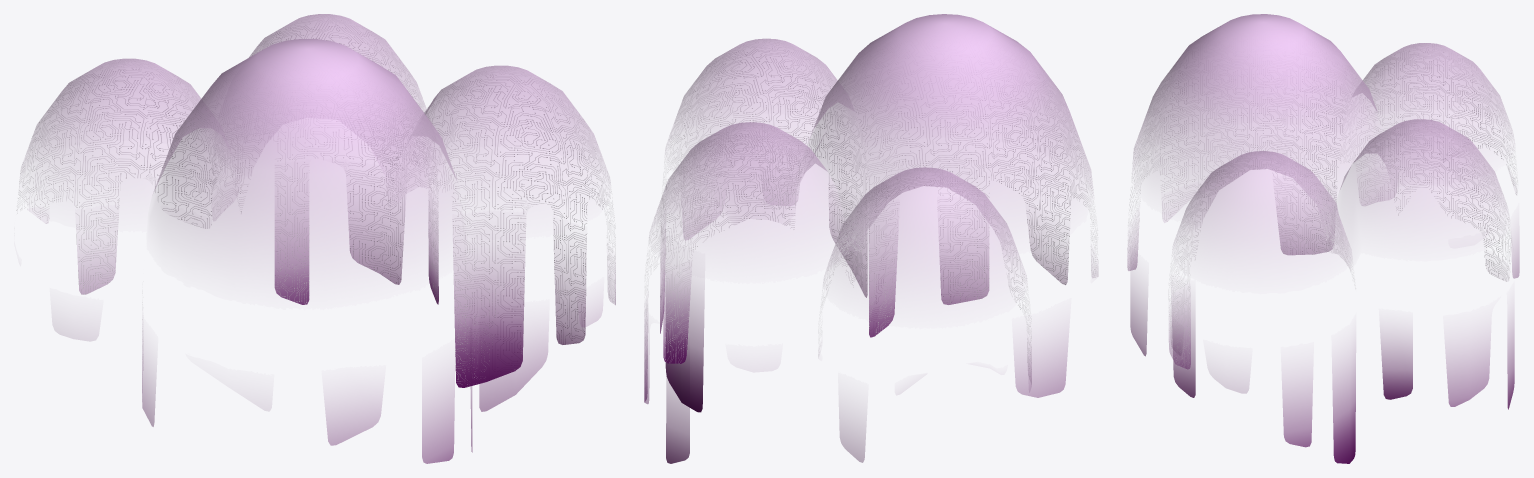
The model's file is VIP_Domes_Outline.glb.
3 views of the same model, side by side, from view 1: azimuth 30°, elevation 25°; view 2: azimuth 150°, elevation 25°; view 3: azimuth 270°, elevation 25° (orthographic). The views are drawn at different scales.
Parts seen in each view (by area): view 1: VIP_Domes_Outline; view 2: VIP_Domes_Outline; view 3: VIP_Domes_Outline.
Part boxes in pixels (box(x1,y1,x2,y2)): VIP_Domes_Outline: box(16, 14, 615, 463); VIP_Domes_Outline: box(644, 14, 1098, 463); VIP_Domes_Outline: box(1127, 14, 1519, 463).
Bounding box in the file's own units: 66.52 × 58.23 × 58.85.
Materials: 2 (2 with a texture image).
